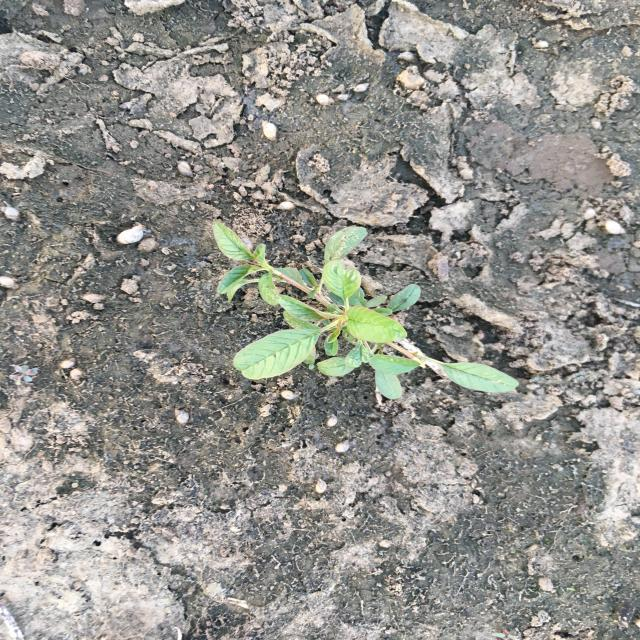Waterhemp: (210, 218, 521, 403)
